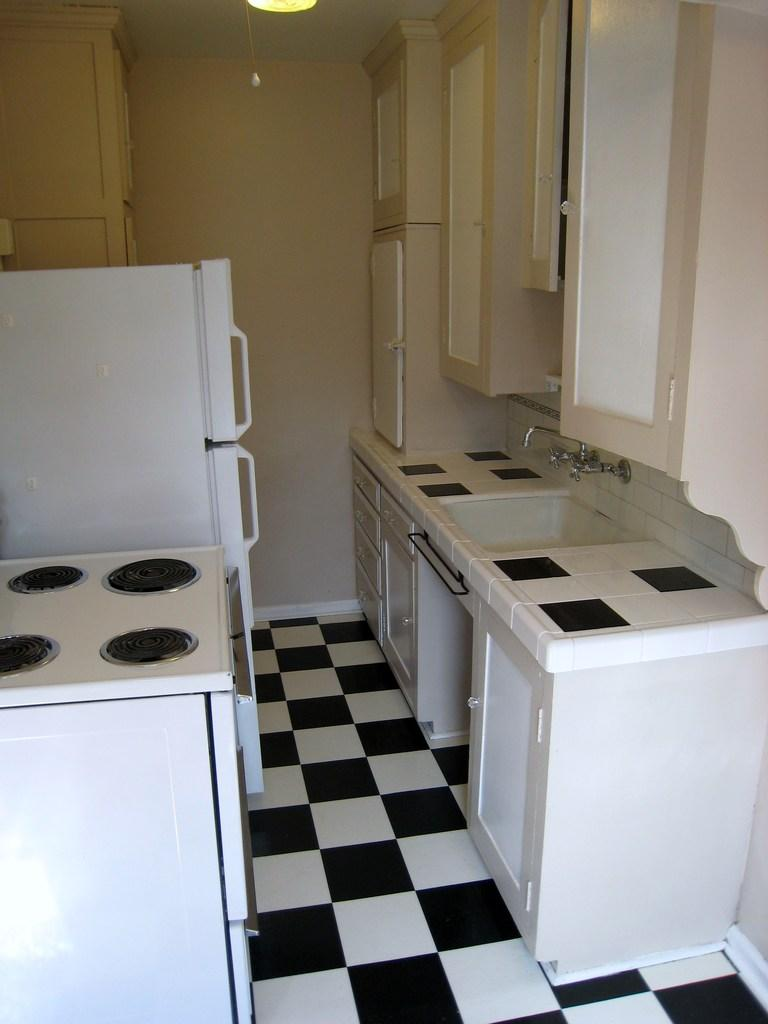cabinet_door: (580, 10, 664, 440), (478, 638, 534, 880), (444, 52, 486, 368), (369, 249, 404, 434), (381, 514, 414, 672), (373, 81, 407, 222), (356, 533, 378, 576), (360, 584, 376, 630), (388, 504, 408, 534), (357, 498, 377, 528), (353, 468, 375, 492)
handle: (235, 444, 263, 566), (228, 322, 254, 440), (564, 196, 578, 228)
